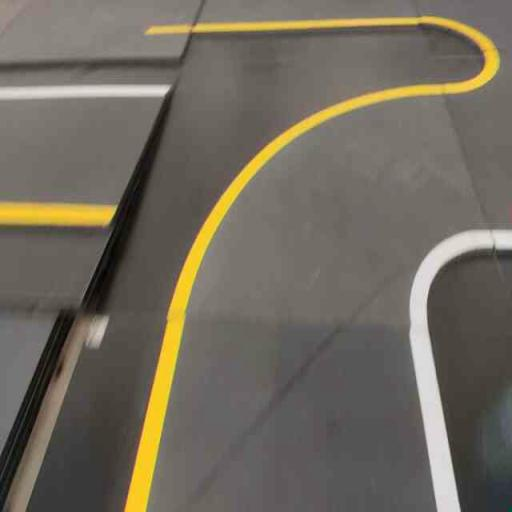right: (159, 74, 509, 326)
